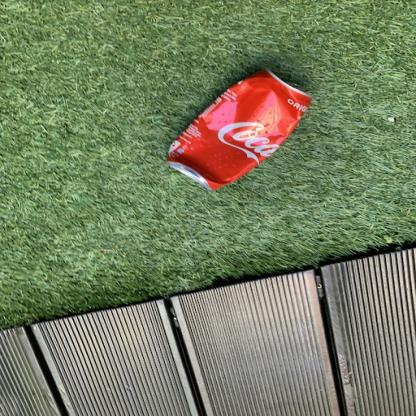trash: (166, 67, 314, 195)
